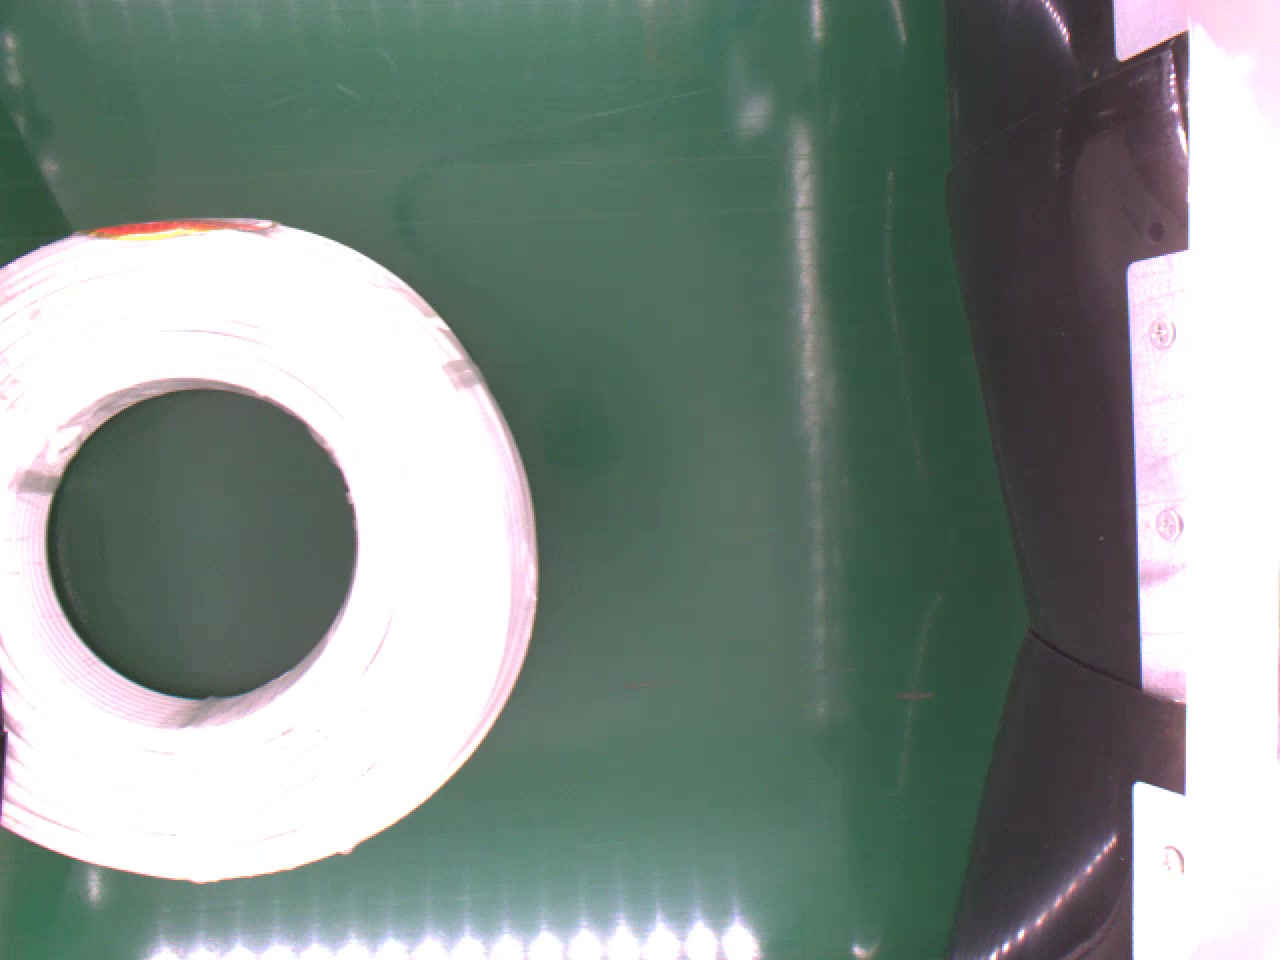white: (0, 216, 538, 882)
